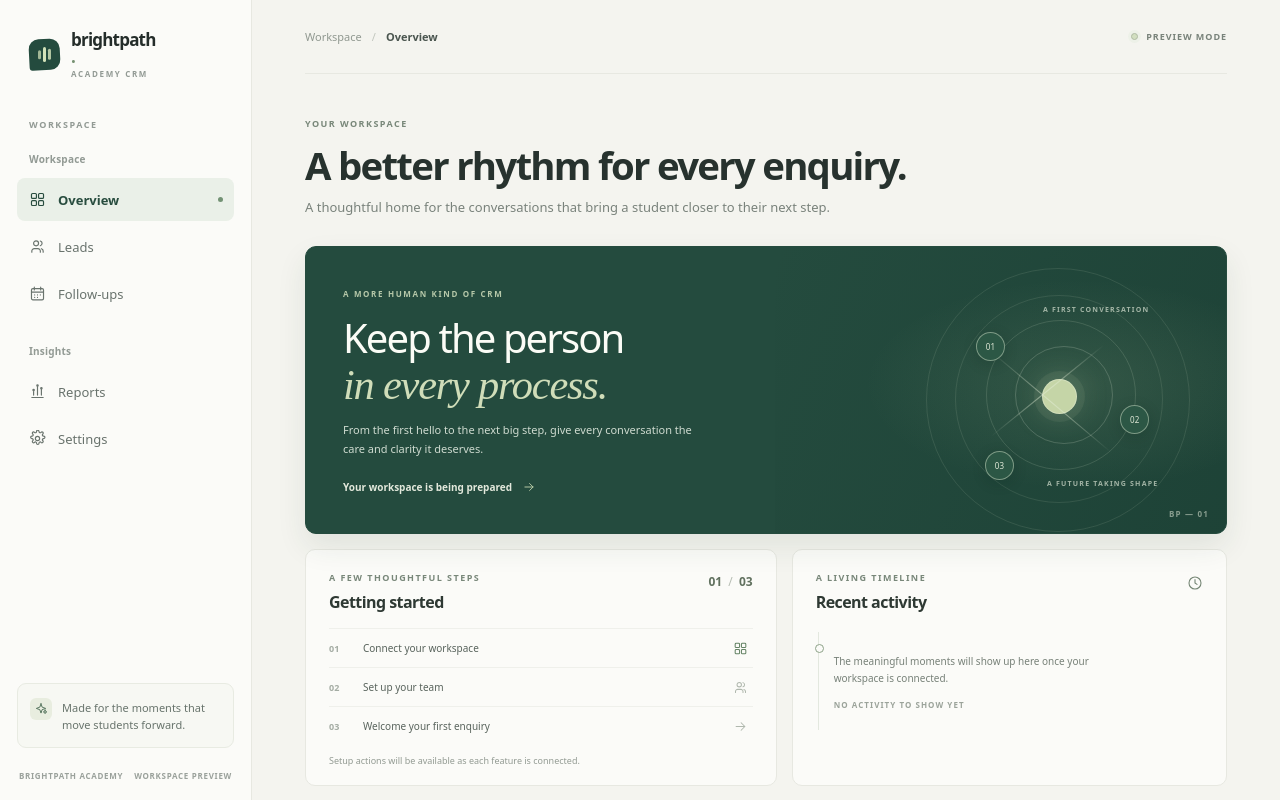
Test: application routes › renders the overview and navigates to each workspace view
Expected: the heading "A better rhythm for every enquiry." is shown, [305,139,906,191]
Click the link "Leads".
click(61, 246)  # box [29,238,94,256]
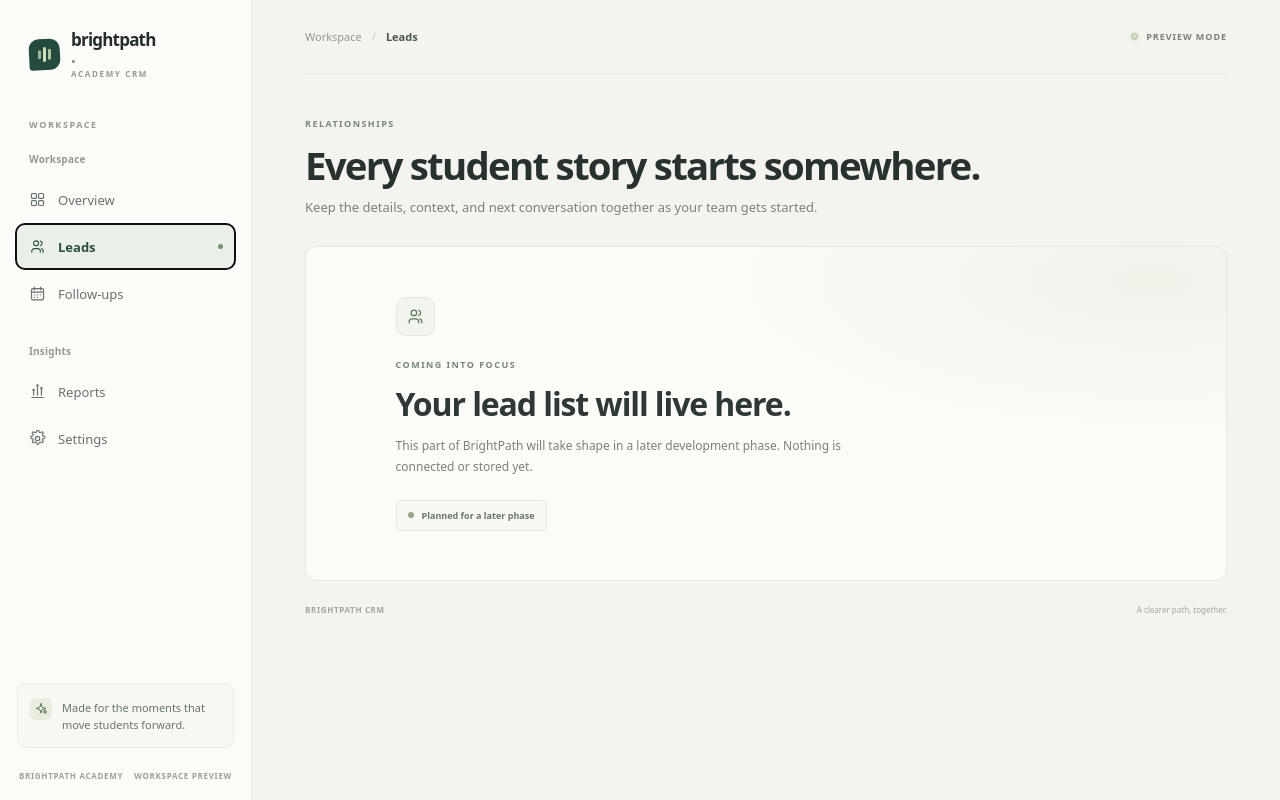
Expected: the heading "Every student story starts somewhere." is shown, [305,142,1065,188]
Click the link "Follow-ups".
click(76, 294)  # box [29,284,124,302]
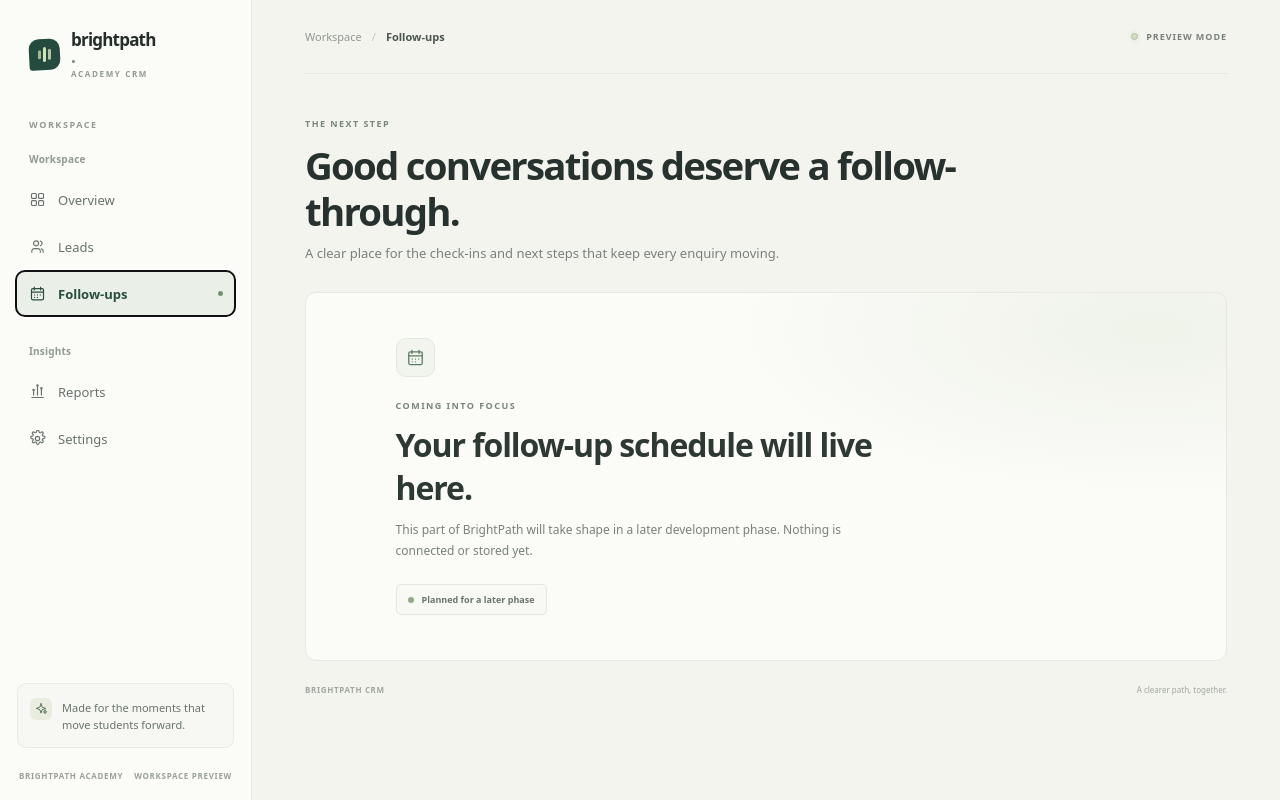
Expected: the heading "Good conversations deserve a follow-through." is shown, [305,142,1065,234]
Click the link "Reports".
click(67, 392)  # box [29,382,106,400]
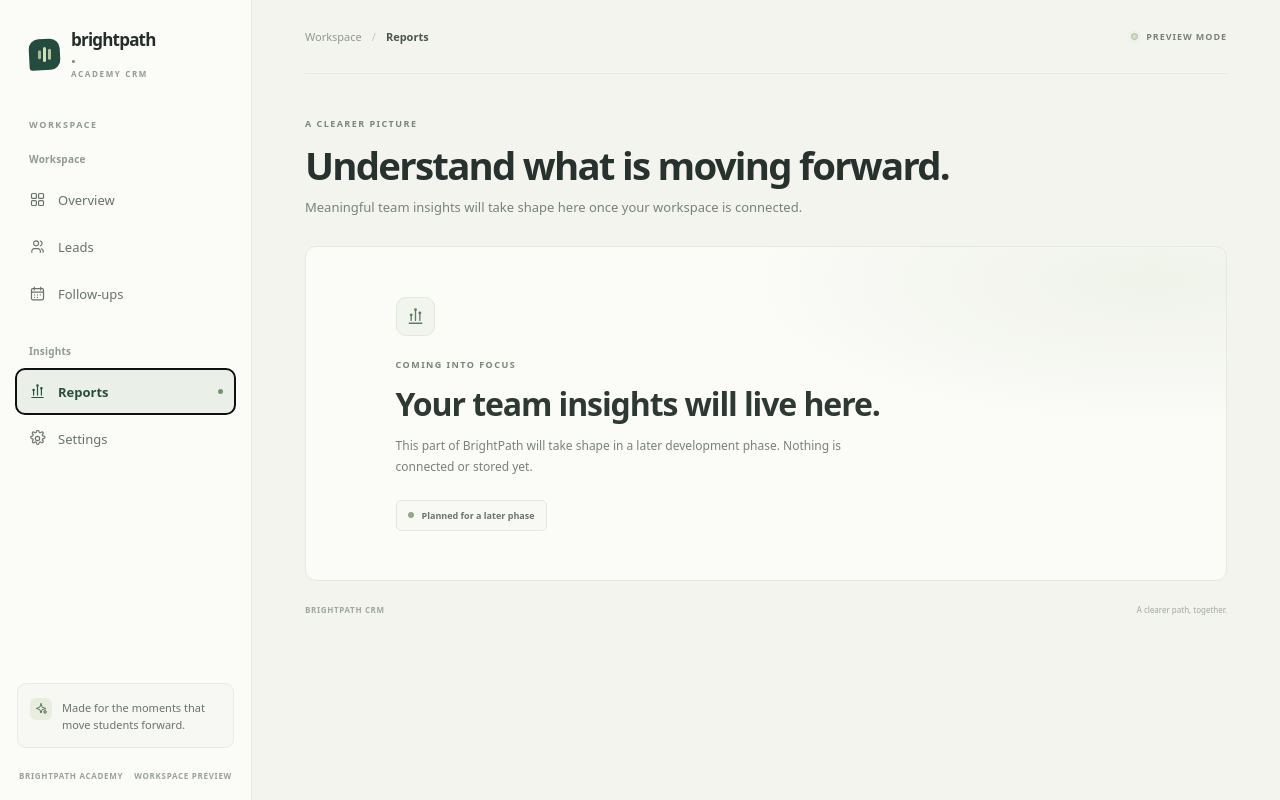
Expected: the heading "Understand what is moving forward." is shown, [305,139,949,191]
Click the link "Settings".
click(68, 438)  # box [29,430,108,448]
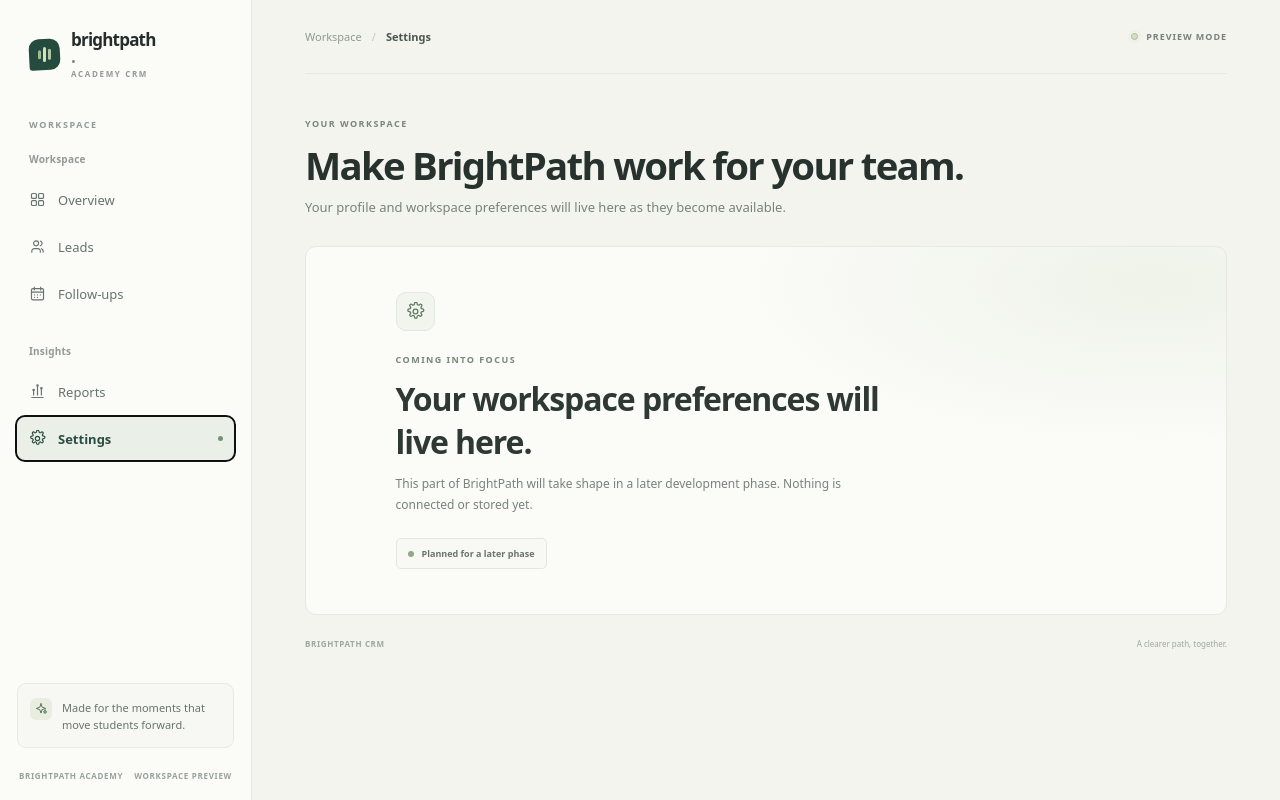
Expected: the heading "Make BrightPath work for your team." is shown, [305,142,1065,188]
Click the link "Overview".
click(72, 200)  # box [29,190,115,208]
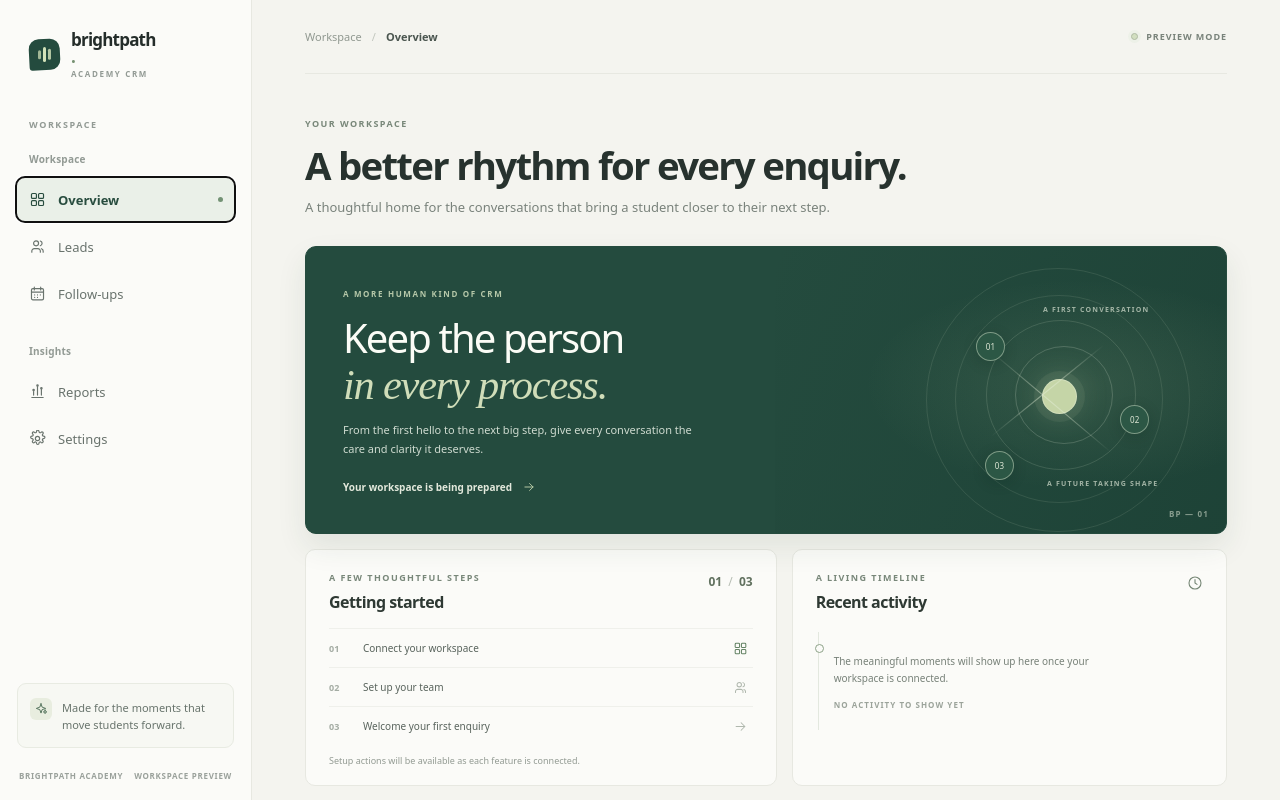
Expected: the heading "A better rhythm for every enquiry." is shown, [305,139,906,191]
